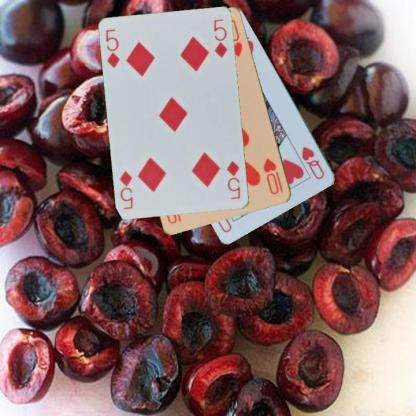10h: (260, 155, 285, 196)
5d: (224, 158, 242, 201), (103, 27, 121, 70)
Qh: (299, 144, 326, 181)
